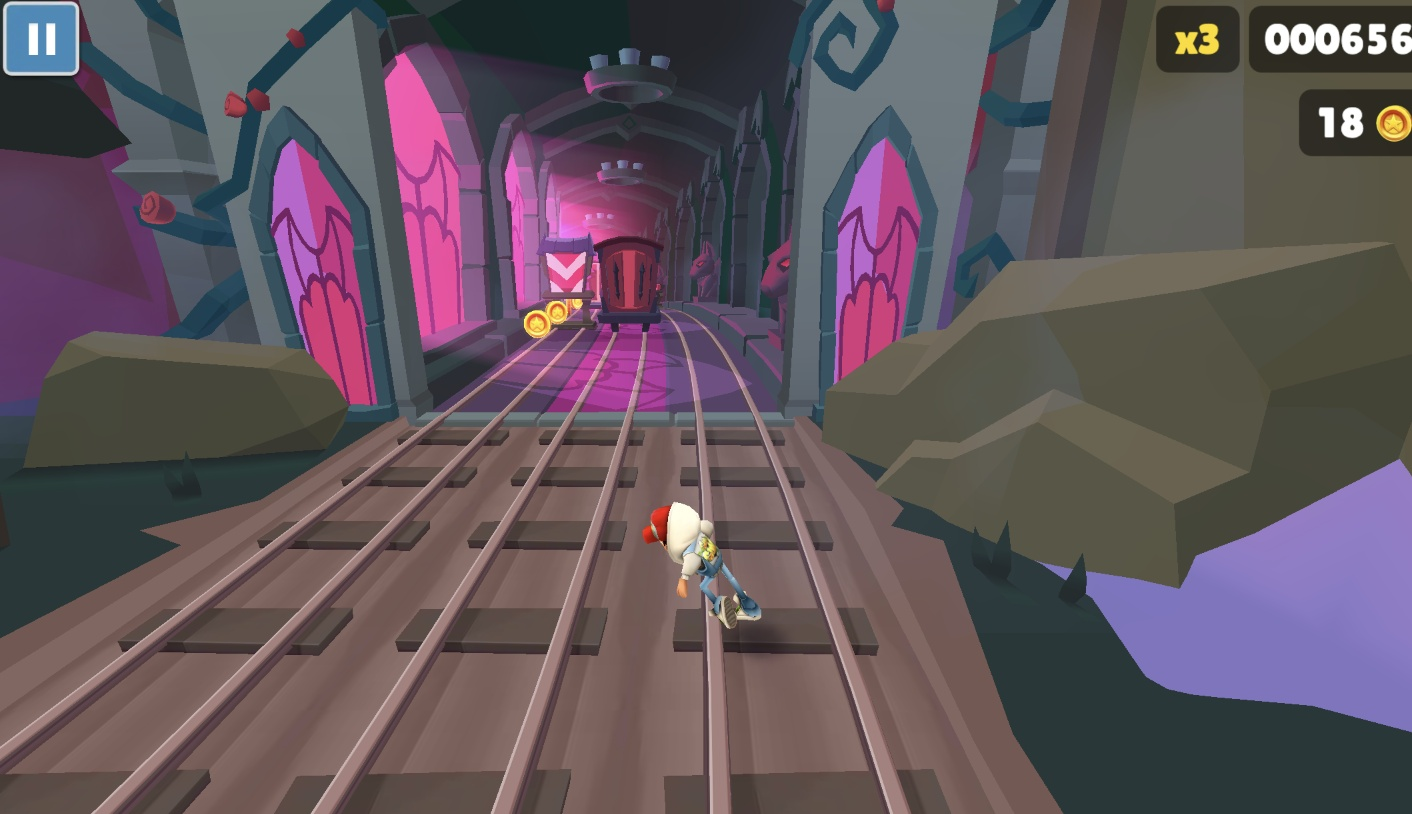overhead_barrier: (541, 239, 605, 331)
train: (597, 237, 672, 332)
